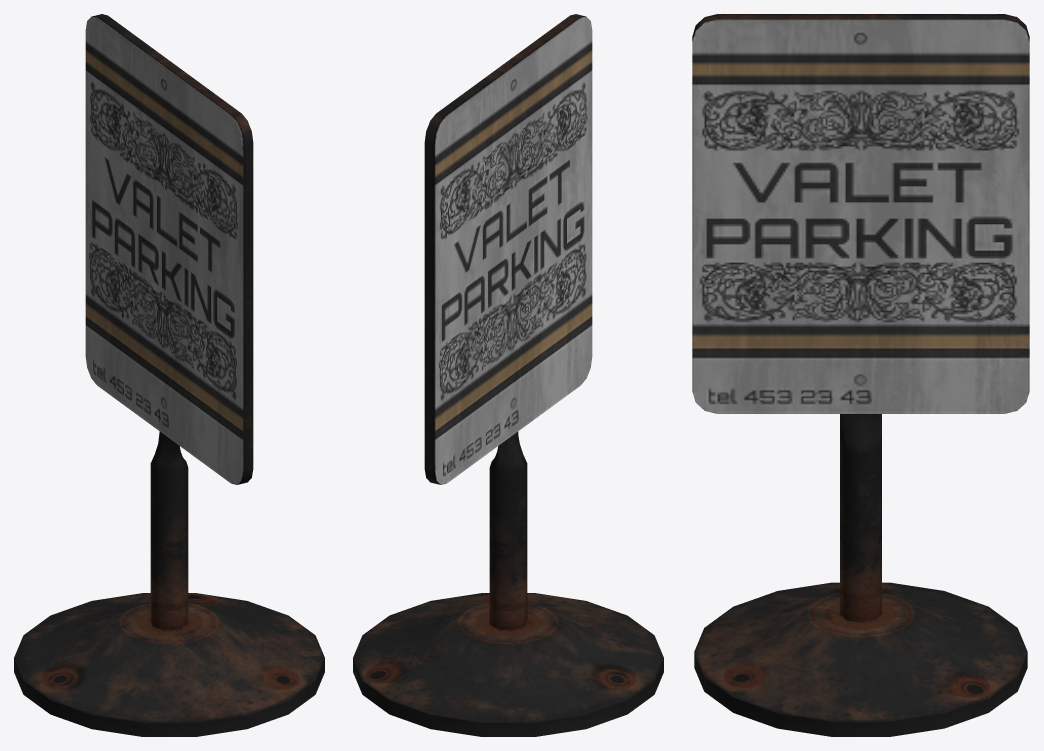
The model's file is MB_Sign_Valet_Parking.fbx.
The picture shows the model from 3 angles, left to right: view 1: azimuth 30°, elevation 25°; view 2: azimuth 150°, elevation 25°; view 3: azimuth 270°, elevation 25°; orthographic projection. The views are drawn at different scales.
Visible parts, largest first — view 1: MB_Sign_Valet_Parking_LOD0; view 2: MB_Sign_Valet_Parking_LOD0; view 3: MB_Sign_Valet_Parking_LOD0.
Boxes of the visible parts, left/top/right/bottom form: MB_Sign_Valet_Parking_LOD0: left=14, top=14, right=324, bottom=736; MB_Sign_Valet_Parking_LOD0: left=353, top=14, right=663, bottom=736; MB_Sign_Valet_Parking_LOD0: left=692, top=14, right=1029, bottom=736.
Size of what is drawn, in the model's own units: 43.03 by 94.04 by 44.16.
